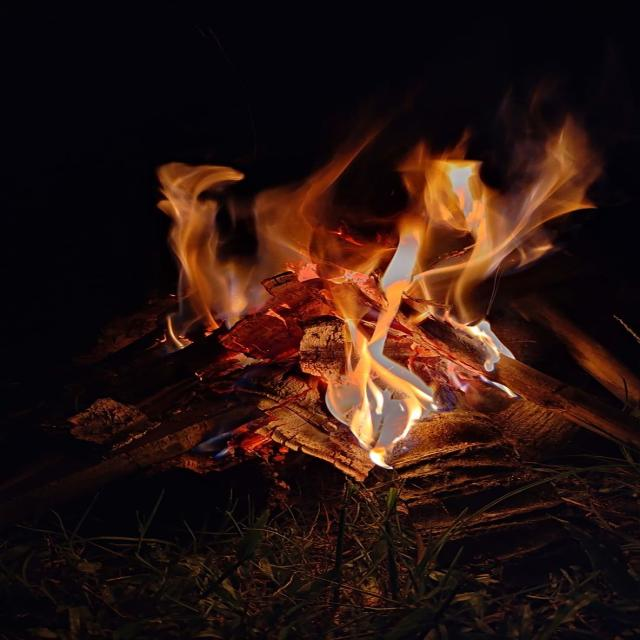Fire: (131, 114, 627, 496)
